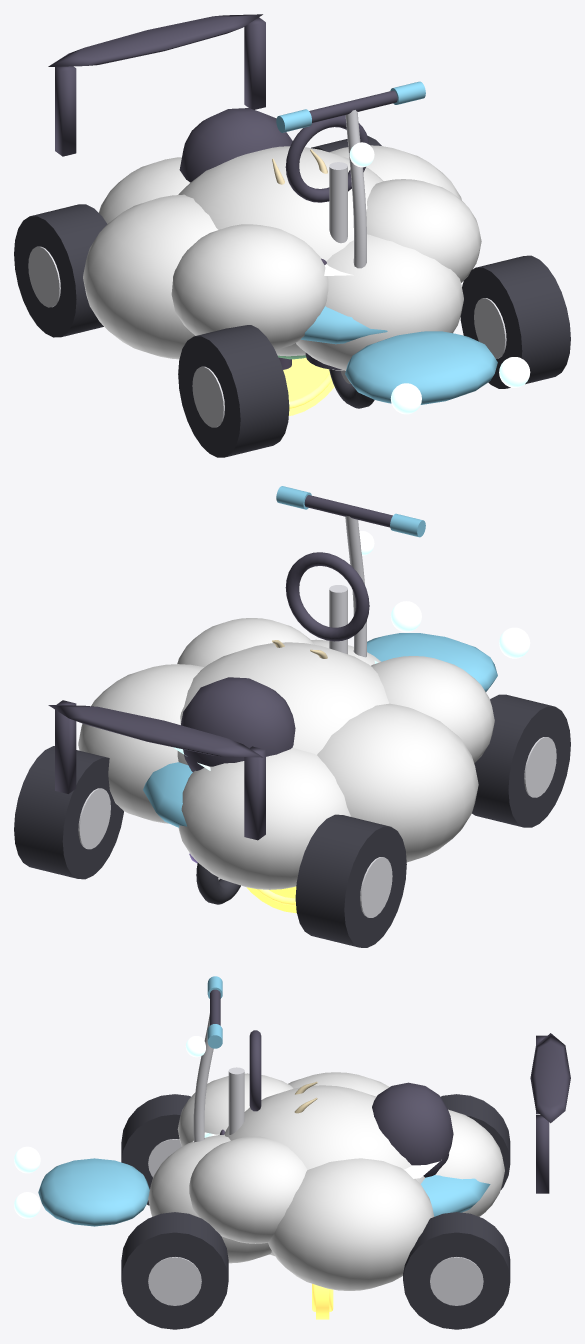
The model's file is items.glb.
The picture shows the model from 3 angles, top to bottom: view 1: azimuth 30°, elevation 25°; view 2: azimuth 150°, elevation 25°; view 3: azimuth 270°, elevation 25°; orthographic projection. The views are drawn at different scales.
Parts seen in each view (by area): view 1: Item_cloud, Item_kart, Item_scooter, Item_coin; view 2: Item_cloud, Item_kart, Item_scooter, Item_coin; view 3: Item_kart, Item_cloud, Item_scooter, Item_coin.
Boxes of the visible parts, x1,y1,x2,y2 form: Item_cloud: (83,145,481,370); Item_kart: (14,14,570,457); Item_scooter: (276,81,425,408); Item_coin: (283,358,334,415); Item_cloud: (78,618,494,889); Item_kart: (14,552,570,947); Item_scooter: (196,486,425,904); Item_coin: (246,886,296,913); Item_kart: (14,1030,570,1329); Item_cloud: (148,1072,504,1290); Item_scooter: (185,976,222,1142); Item_coin: (312,1283,333,1319).
Bounding box in the file's own units: 1.35 × 1.27 × 2.08.
